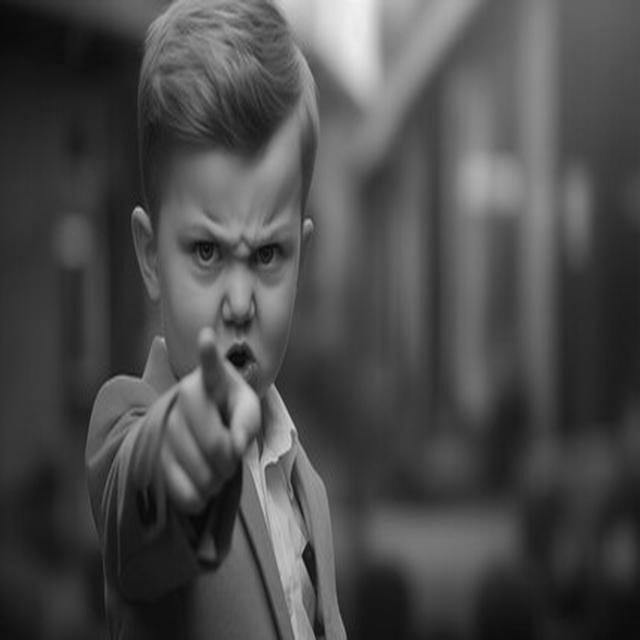Angry: (155, 141, 302, 420)
